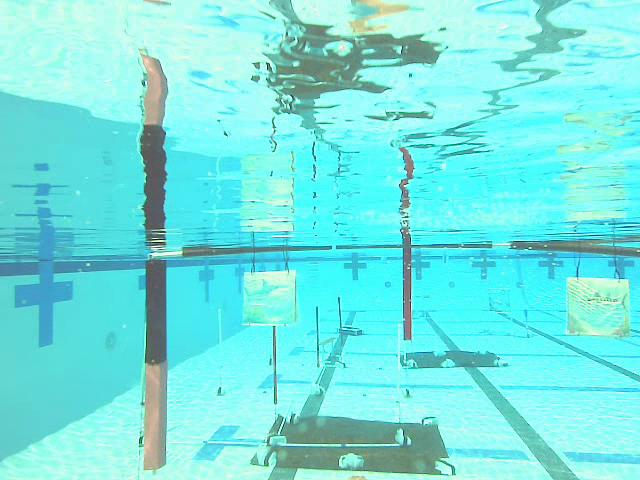black_poster: (272, 326, 278, 406), (315, 306, 321, 368), (336, 296, 344, 341)
divider: (403, 234, 413, 342)
left_gate_poster: (139, 253, 175, 476)
shark: (237, 266, 301, 333)
swordfish: (566, 277, 632, 339)
white_poster: (218, 310, 224, 395)
